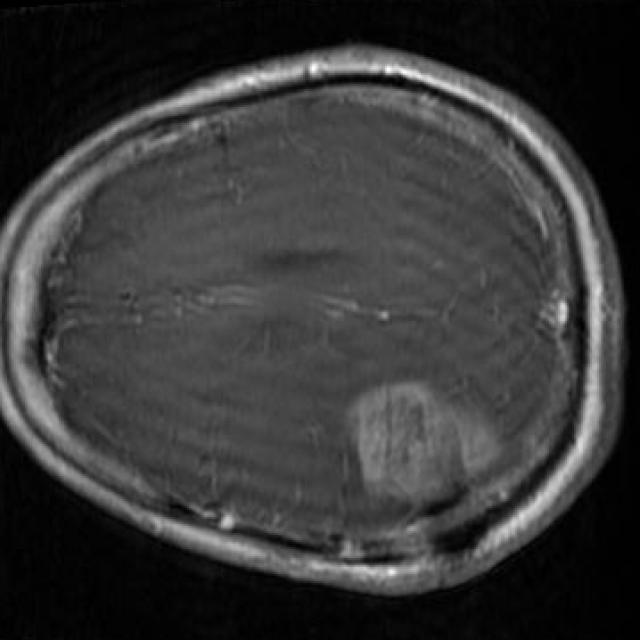glioma: (348, 382, 505, 505)
